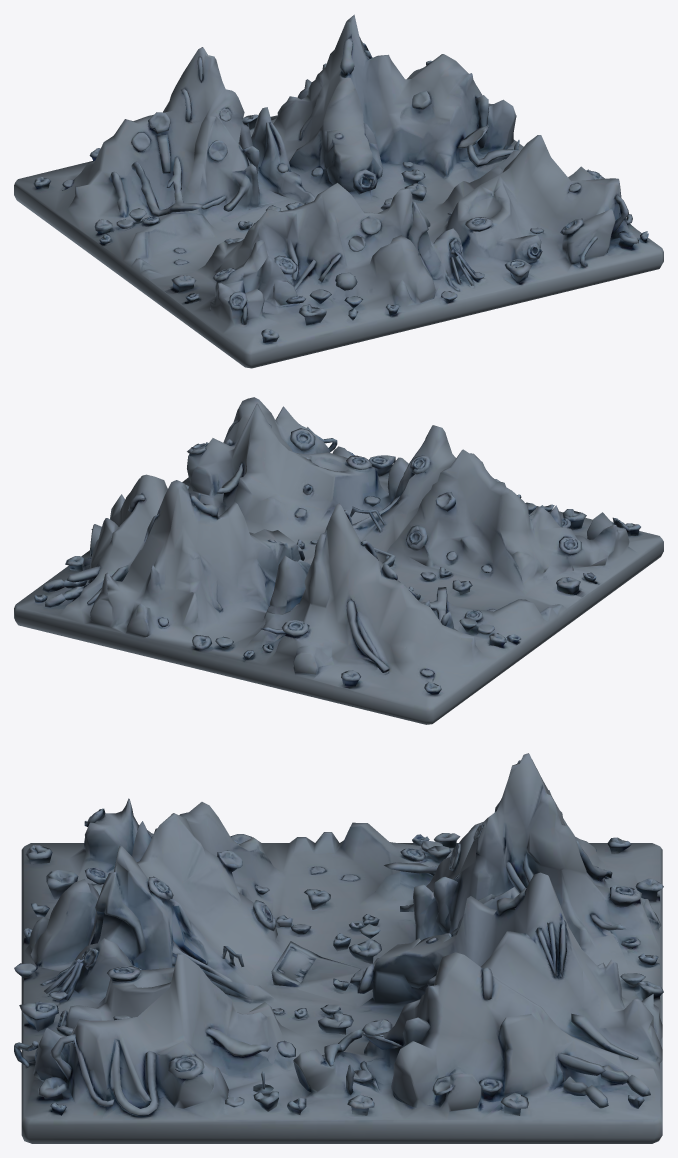
The model's file is VAL_Capital_Environment_DistantMountain_A.glb.
The picture shows the model from 3 angles, top to bottom: view 1: azimuth 30°, elevation 25°; view 2: azimuth 150°, elevation 25°; view 3: azimuth 270°, elevation 25°; orthographic projection. The views are drawn at different scales.
Visible parts, largest first — view 1: tripo_node_06dd50ed-eb22-48a2-b72c-1ffbc0470db9; view 2: tripo_node_06dd50ed-eb22-48a2-b72c-1ffbc0470db9; view 3: tripo_node_06dd50ed-eb22-48a2-b72c-1ffbc0470db9.
Part boxes in pixels (bbox=[...]): tripo_node_06dd50ed-eb22-48a2-b72c-1ffbc0470db9: bbox=[14, 14, 663, 368]; tripo_node_06dd50ed-eb22-48a2-b72c-1ffbc0470db9: bbox=[14, 397, 663, 724]; tripo_node_06dd50ed-eb22-48a2-b72c-1ffbc0470db9: bbox=[14, 753, 663, 1143].
Size of the model in its own units: 0.998 by 0.3496 by 0.9863.
Materials: 1 (1 with a texture image).
